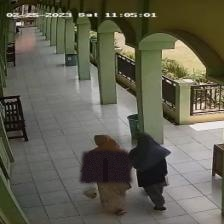Cadar_Niqab: (80, 134, 131, 182)
